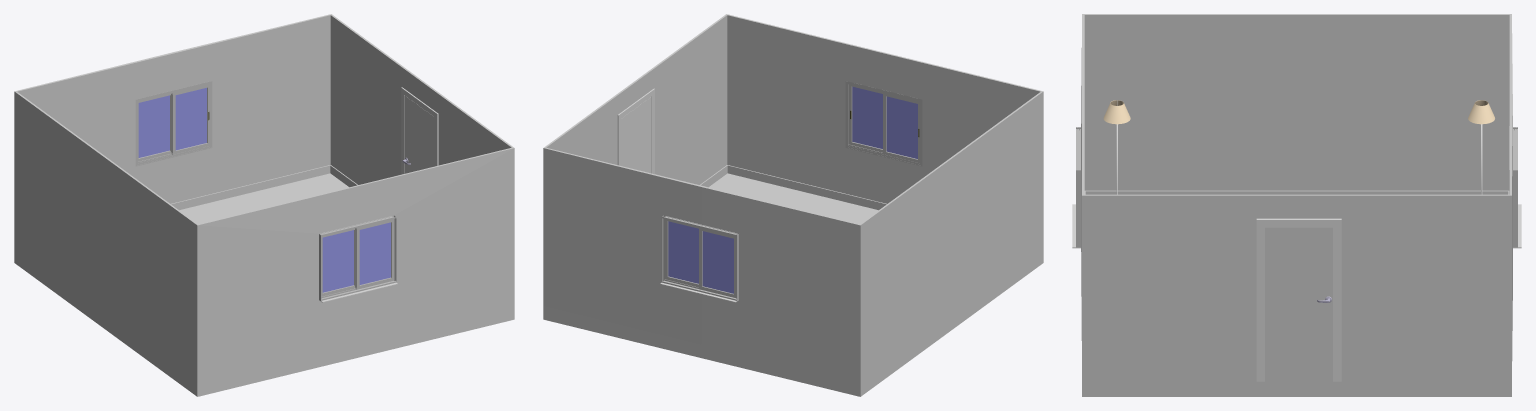
The model's file is Virtual Music Therapy Room 1.fbx.
The picture shows the model from 3 angles, left to right: view 1: azimuth 30°, elevation 25°; view 2: azimuth 150°, elevation 25°; view 3: azimuth 270°, elevation 25°; orthographic projection. The views are drawn at different scales.
Parts seen in each view (by area): view 1: Room, Cube, Window.L.001, Window.R, Window.R.001, Window.L, Door, Baseboard, WindowFrame, WindowFrame.001, DoorFrame; view 2: Room, Cube, Window.L, Window.R.001, Window.R, Window.L.001, Door, Baseboard, WindowFrame.001, WindowFrame, DoorFrame; view 3: Room, Cube, DoorFrame, Baseboard, WindowFrame, WindowFrame.001, Lampshade.001, Lampshade.
Boxes of the visible parts, <box> form: Room: <box>14,14,514,382</box>; Cube: <box>14,173,514,396</box>; Window.L.001: <box>355,219,393,289</box>; Window.R: <box>171,84,209,154</box>; Window.R.001: <box>321,228,355,296</box>; Window.L: <box>138,93,171,161</box>; Door: <box>404,95,434,173</box>; Baseboard: <box>171,165,357,210</box>; WindowFrame: <box>135,81,212,166</box>; WindowFrame.001: <box>319,215,396,300</box>; DoorFrame: <box>401,87,438,174</box>; Room: <box>543,14,1043,382</box>; Cube: <box>543,173,1043,396</box>; Window.L: <box>699,227,736,297</box>; Window.R.001: <box>883,92,919,162</box>; Window.R: <box>665,219,698,287</box>; Window.L.001: <box>849,84,882,152</box>; Door: <box>621,97,651,173</box>; Baseboard: <box>700,165,886,210</box>; WindowFrame.001: <box>845,81,922,166</box>; WindowFrame: <box>661,215,738,300</box>; DoorFrame: <box>617,88,654,174</box>; Room: <box>1081,14,1512,380</box>; Cube: <box>1082,380,1511,396</box>; DoorFrame: <box>1256,218,1341,381</box>; Baseboard: <box>1084,190,1509,194</box>; WindowFrame: <box>1509,126,1517,247</box>; WindowFrame.001: <box>1076,127,1080,247</box>; Lampshade.001: <box>1103,100,1130,124</box>; Lampshade: <box>1468,100,1494,124</box>.
Size of the model in its own units: 512 by 261 by 529.
